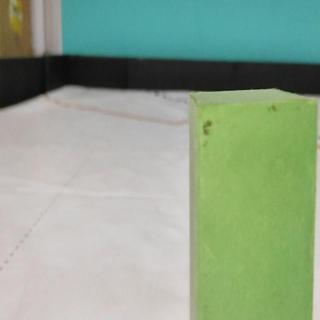greenbox: (191, 92, 316, 320)
